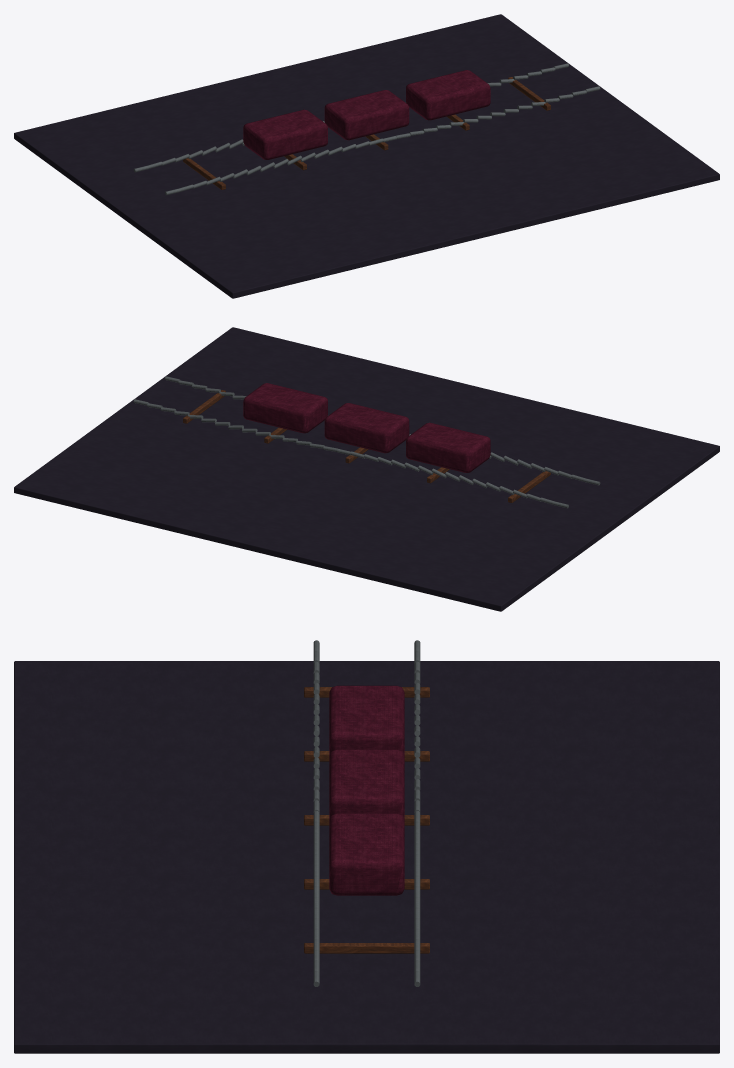
The model's file is explore3d__finish_coaster_platform.glb.
The picture shows the model from 3 angles, top to bottom: view 1: azimuth 30°, elevation 25°; view 2: azimuth 150°, elevation 25°; view 3: azimuth 270°, elevation 25°; orthographic projection. The views are drawn at different scales.
Visible parts, largest first — view 1: exterior_coaster_car; view 2: exterior_coaster_car; view 3: exterior_coaster_car.
Part boxes in pixels (x1,y1,x2,y2): exterior_coaster_car: [14, 14, 719, 298]; exterior_coaster_car: [14, 327, 719, 611]; exterior_coaster_car: [14, 640, 719, 1053].
Size of the model in its own units: 18 by 1.97 by 14.
Materials: 4 (4 with a texture image).
